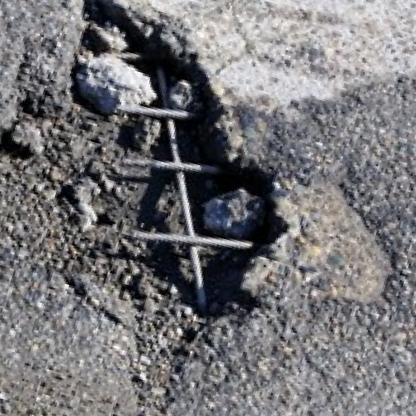pothole: (0, 0, 324, 344)
